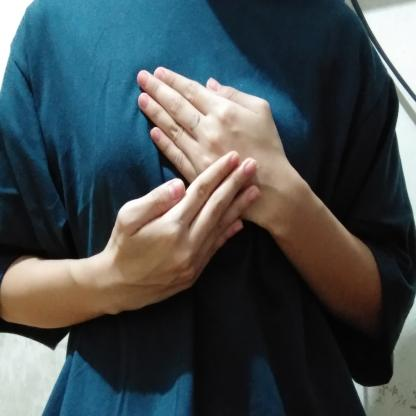thank you: (102, 59, 320, 323)
